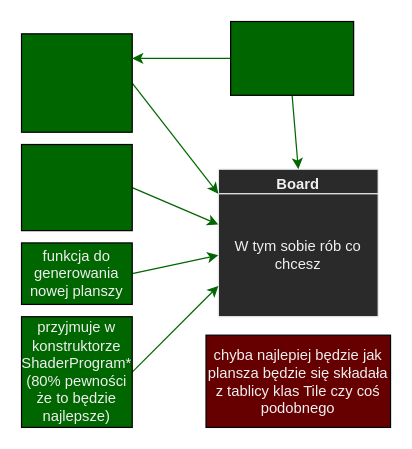
This 412x449 diagram has some shape labels left out. The centre of each missing label's shape, as x and y in pixels:
"funkcja co zrobić z danym klockiem (x,y) gdy się kliknie na niego" belongs at (x=76, y=82).
"funkcja showAll która będzie do napisania później" belongs at (x=76, y=187).
"komunikacja czy się wygrało, np. jako wynik funkcji" belongs at (x=291, y=57).
